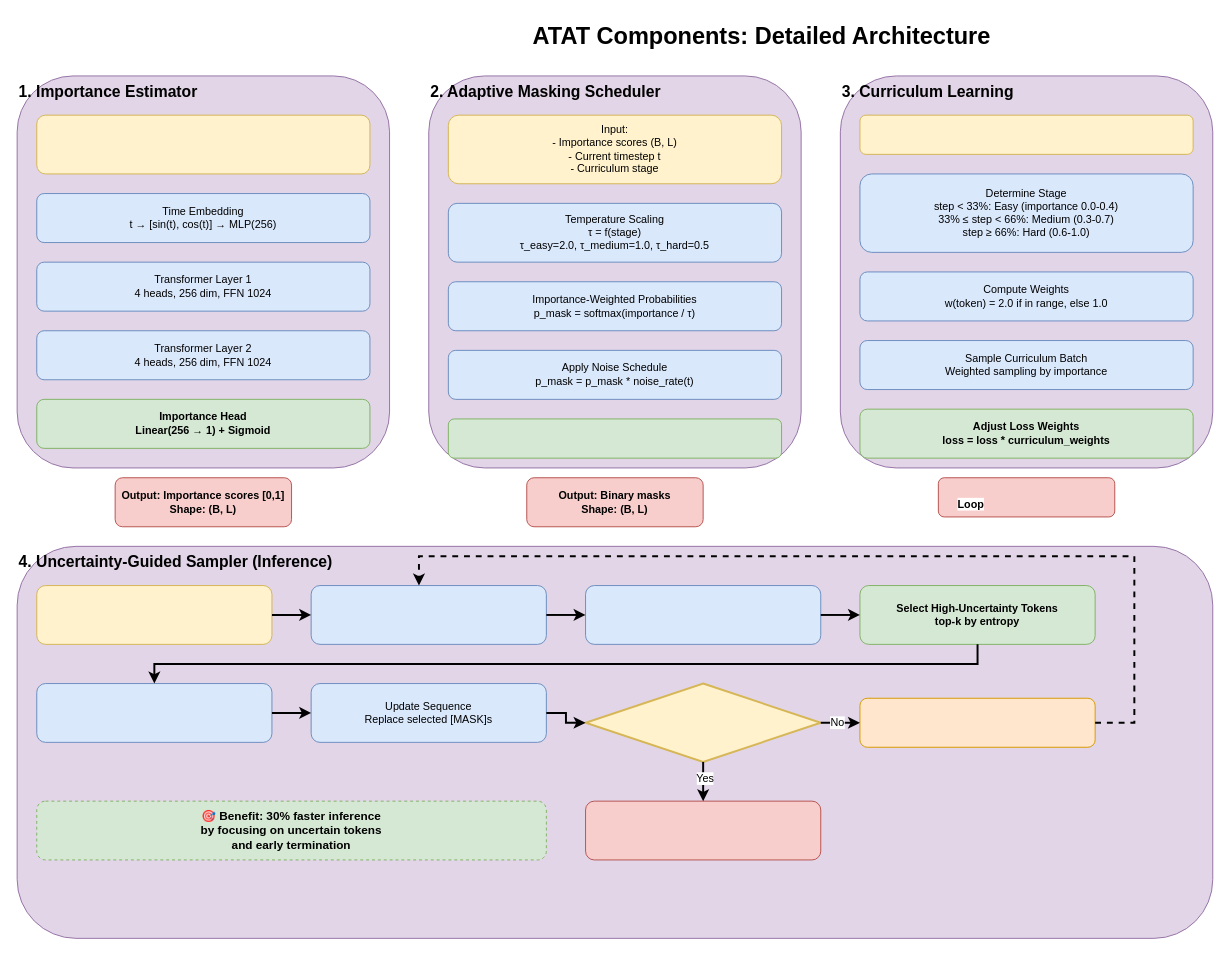
This 1230x956 diagram has some shape labels left out. Each missing label, with the centre of its shape:
"Compute Uncertainty H = -Σ p*log(p) (entropy per masked token)" belongs at [703,614].
"Continue Denoising" belongs at [977,722].
"Convergence Check avg(H) < threshold?" belongs at [702,722].
"Denoise Selected Tokens Sample from softmax(logits)" belongs at [154,712].
"Input: - Token embeddings (B, L, D) - Timestep t" belongs at [203,144].
"Input: Masked sequence [MASK] [MASK] [MASK] ..." belongs at [154,614].
"Input: Training step" belongs at [1026,134].
"Model Prediction logits = ATAT-DiT(x, t)" belongs at [428,614].
"Output: Generated sequence Fully denoised text" belongs at [703,830].
"Output: Stage, weights" belongs at [1026,497].
"Sample Masks mask ~ Bernoulli(p_mask)" belongs at [614,438].
